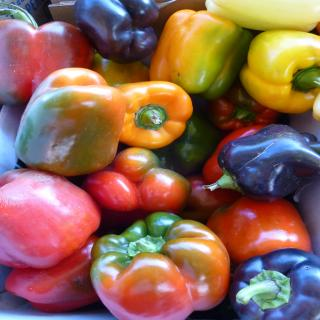Bell pepper: (0, 0, 320, 320), (0, 1, 320, 320), (242, 28, 319, 112)
